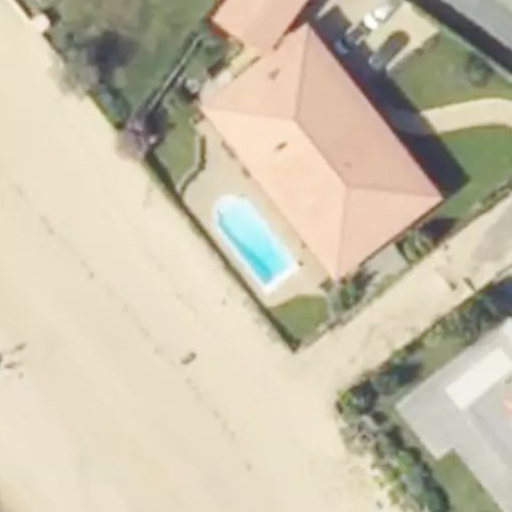pool: (205, 211, 296, 263)
